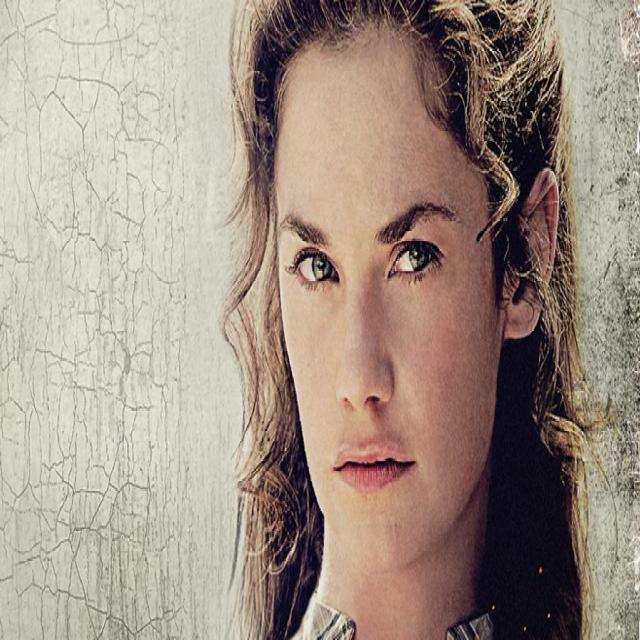Face: (277, 38, 492, 543)
